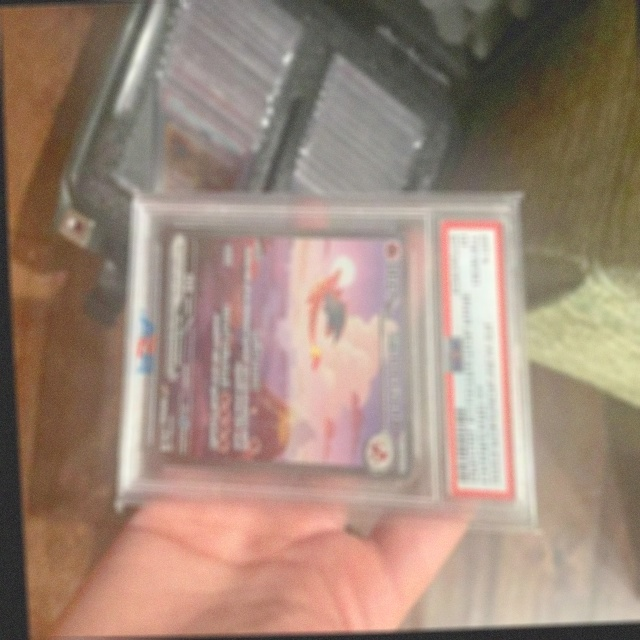card: (148, 226, 410, 480)
